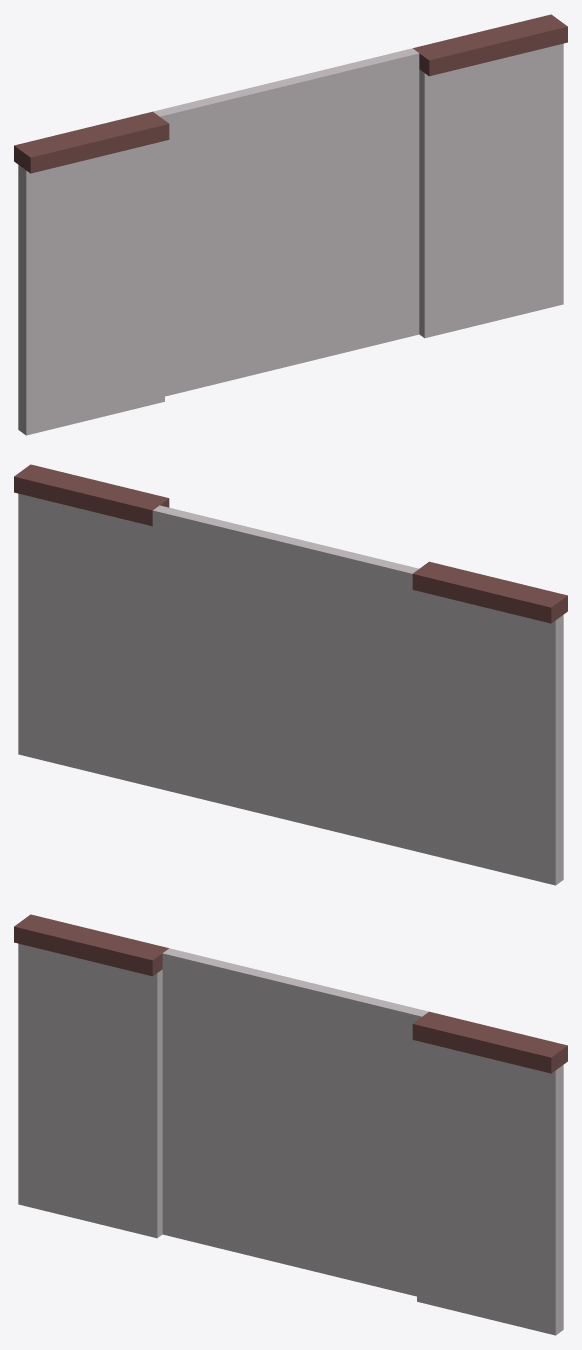
Rendered from BWallPanel_AC.fbx.
3 renders of one model, top to bottom at view 1: azimuth 30°, elevation 25°; view 2: azimuth 150°, elevation 25°; view 3: azimuth 330°, elevation 25°, orthographic.
Visible parts, largest first — view 1: BWallPanel_Door_AC; view 2: BWallPanel_Door_AC; view 3: BWallPanel_Door_AC.
Part boxes in pixels (left/top/right/bottom): BWallPanel_Door_AC: left=14, top=14, right=567, bottom=435; BWallPanel_Door_AC: left=14, top=464, right=567, bottom=885; BWallPanel_Door_AC: left=14, top=914, right=567, bottom=1335.
Bounding box in the file's own units: 800 × 400 × 43.
